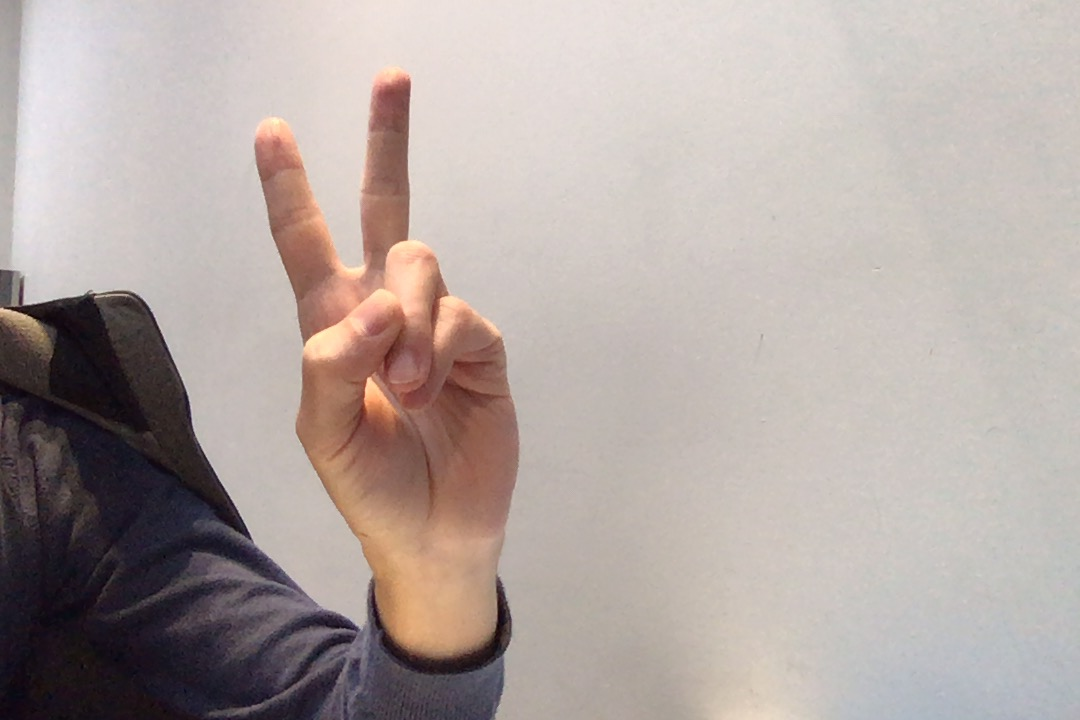peacesign: (241, 50, 532, 561)
